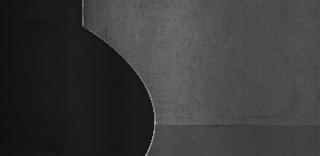welding line: (149, 116, 319, 132)
